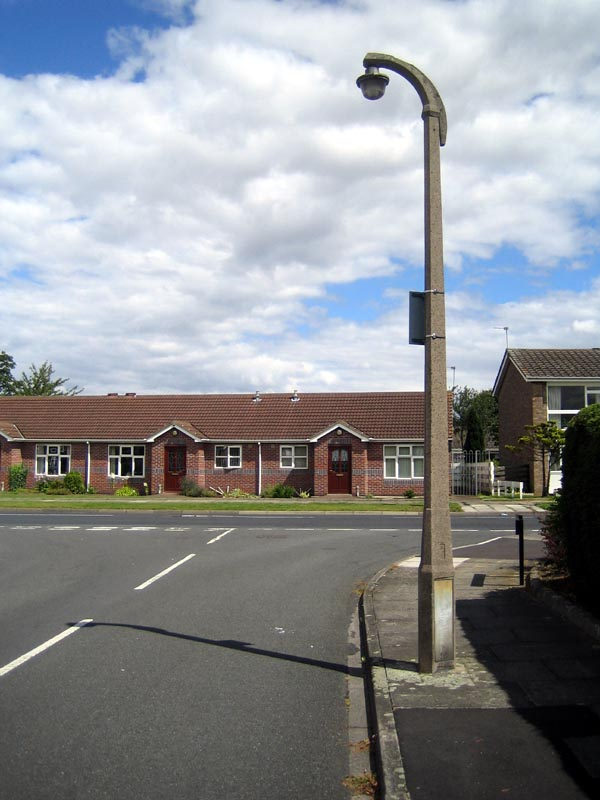light_pole: (403, 54, 464, 676)
